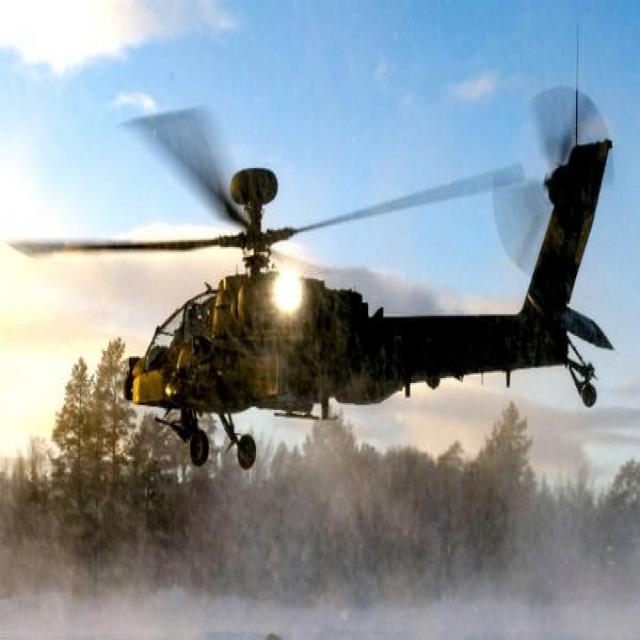MIL_HELO: (10, 80, 618, 477)
